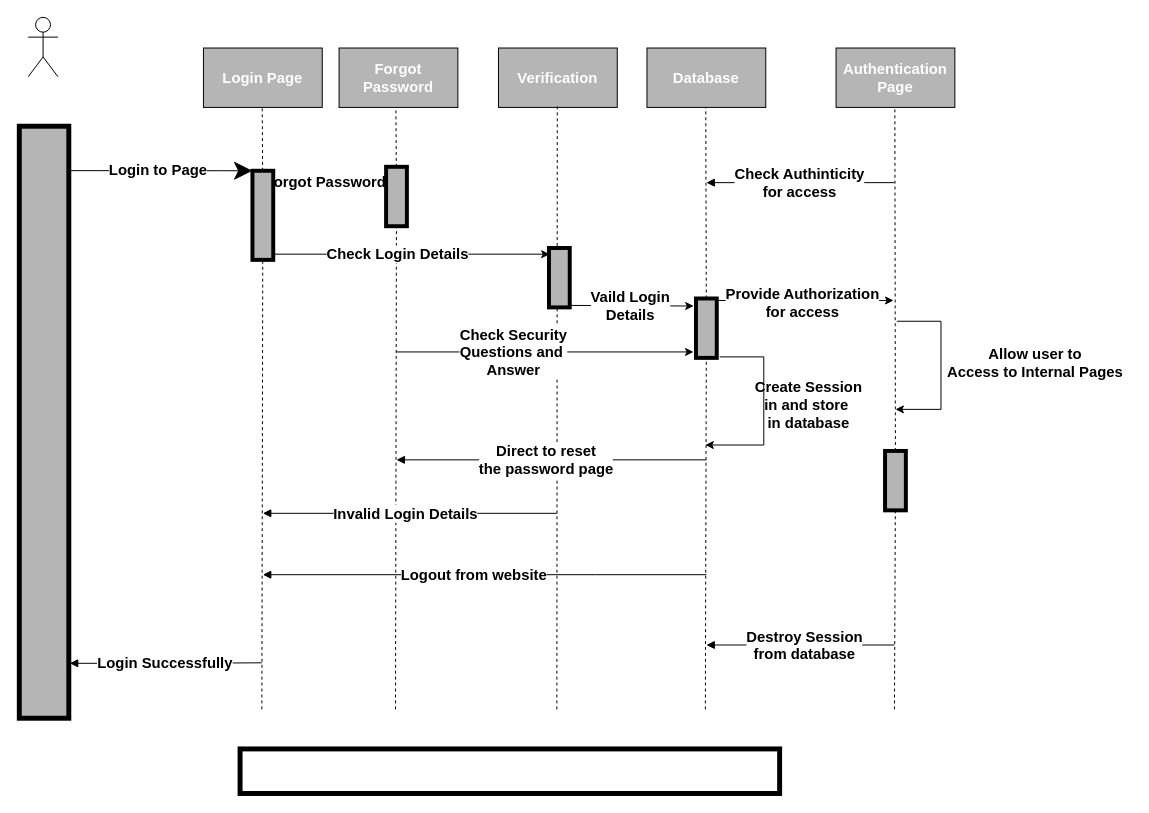
Some shapes in this 1149 by 813 pixel diagram are drawn without their labels. Here are the shapes that lost their labels. From the top down, the box of each, then its label:
(27, 16, 58, 77): Admin
(237, 746, 782, 795): Admin sequence Diagram Of Triibe
